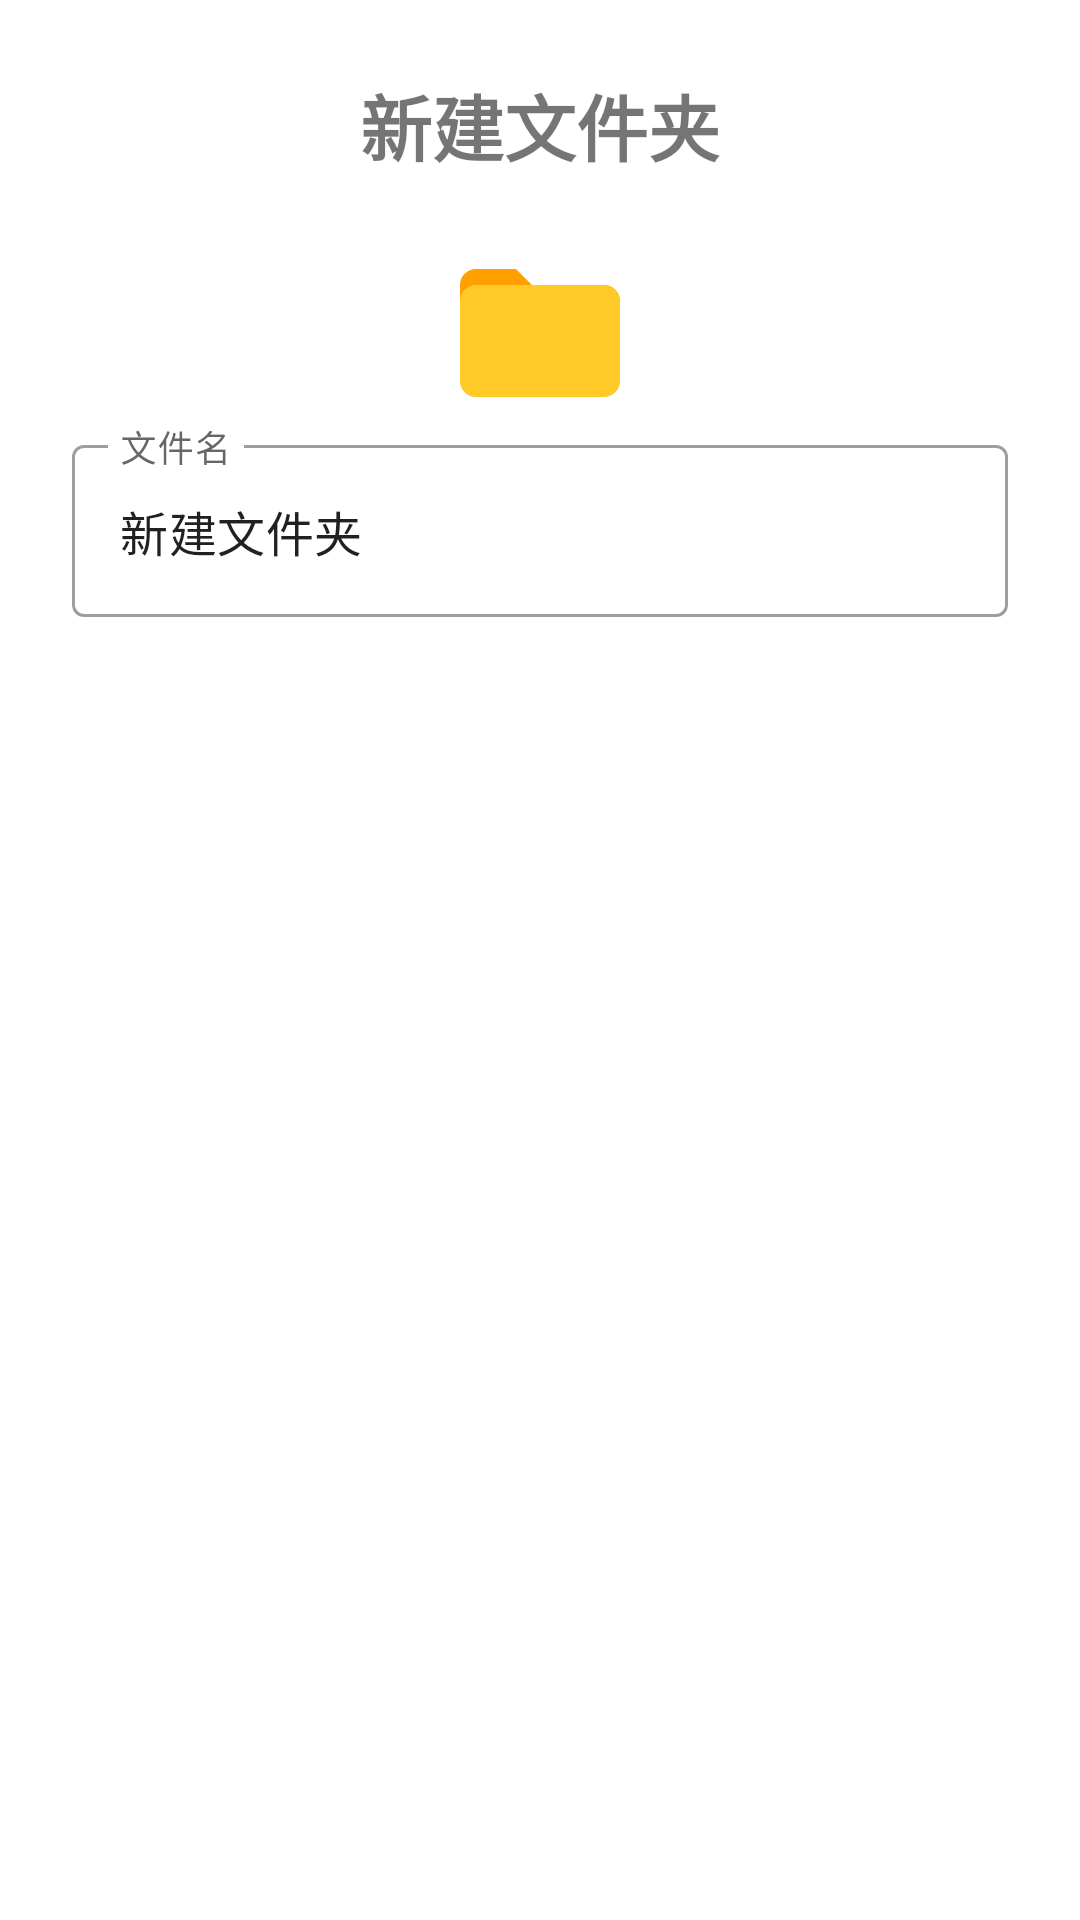

Where icons sit on this 1080 × 1920 app screen, as [x1, y1, x2, y2]:
file type folder: [460, 269, 620, 397]
